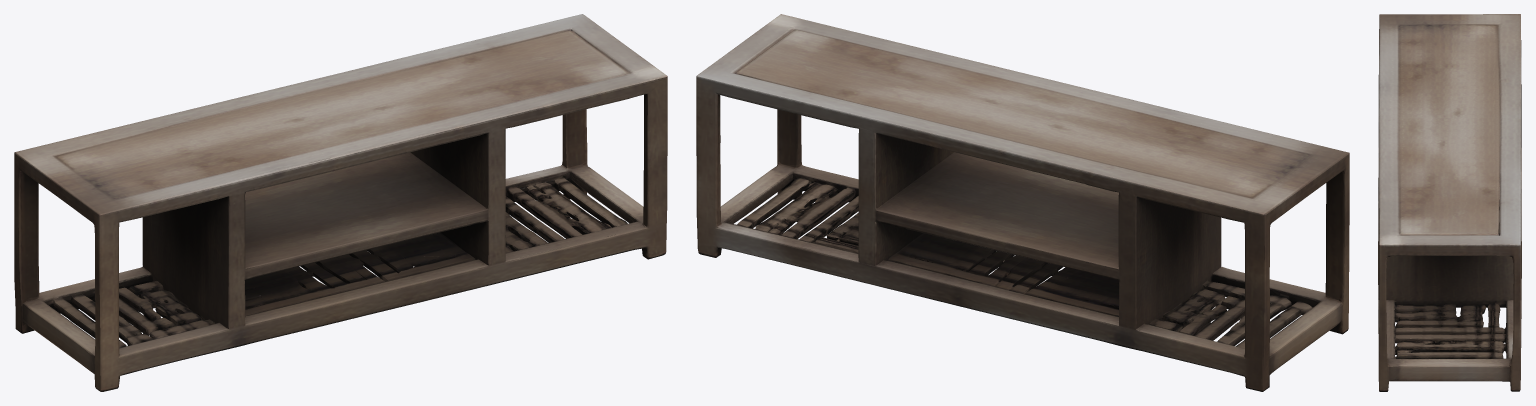
3 renders of one model, left to right at view 1: azimuth 30°, elevation 25°; view 2: azimuth 150°, elevation 25°; view 3: azimuth 270°, elevation 25°, orthographic. The views are drawn at different scales.
Visible parts, largest first — view 1: world; view 2: world; view 3: world.
Boxes of the visible parts, x1,y1,x2,y2 form: world: (14,14,667,391); world: (696,14,1349,391); world: (1378,14,1521,391).
Size of the model in its own units: 1 by 0.3013 by 0.263.
Materials: 1 (1 with a texture image).
